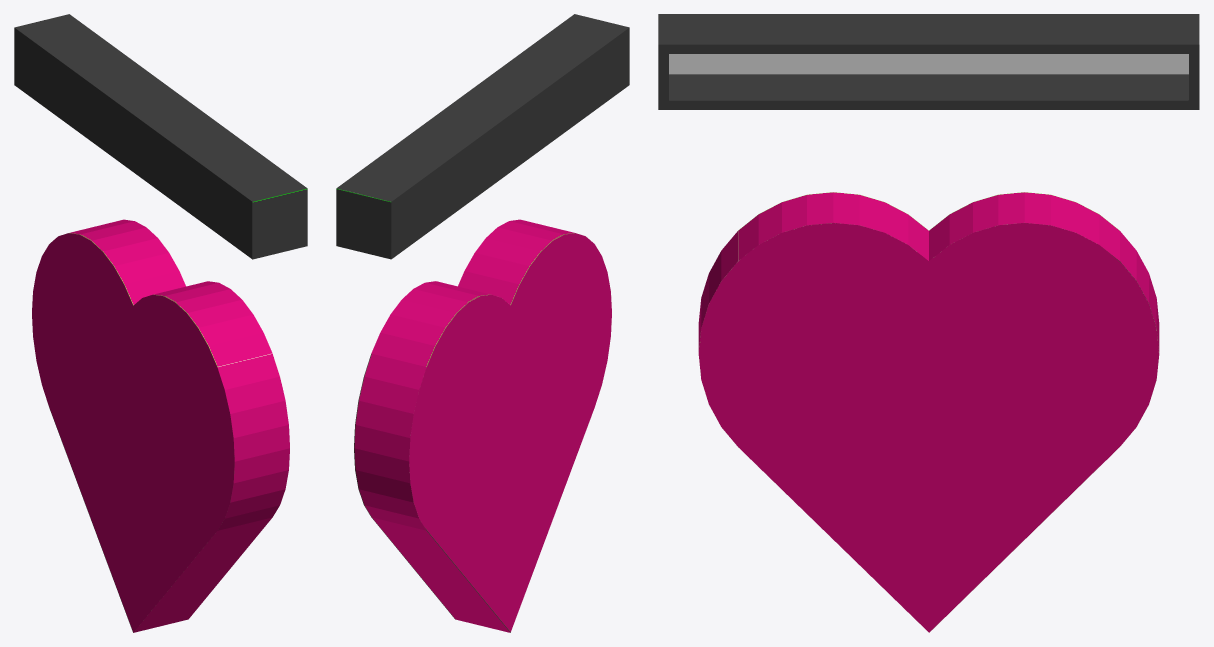
The model's file is DemandaPopular.fbx.
3 views of the same model, side by side, from view 1: azimuth 30°, elevation 25°; view 2: azimuth 150°, elevation 25°; view 3: azimuth 270°, elevation 25° (orthographic). The views are drawn at different scales.
Parts seen in each view (by area): view 1: 000_Demanda Popular; view 2: 000_Demanda Popular; view 3: 000_Demanda Popular.
Part boxes in pixels (x1,y1,x2,y2): 000_Demanda Popular: (14, 14, 307, 632); 000_Demanda Popular: (336, 14, 629, 632); 000_Demanda Popular: (658, 14, 1199, 632).
Bounding box in the file's own units: 50 × 448 × 373.
Materials: 2 (1 with a texture image).
